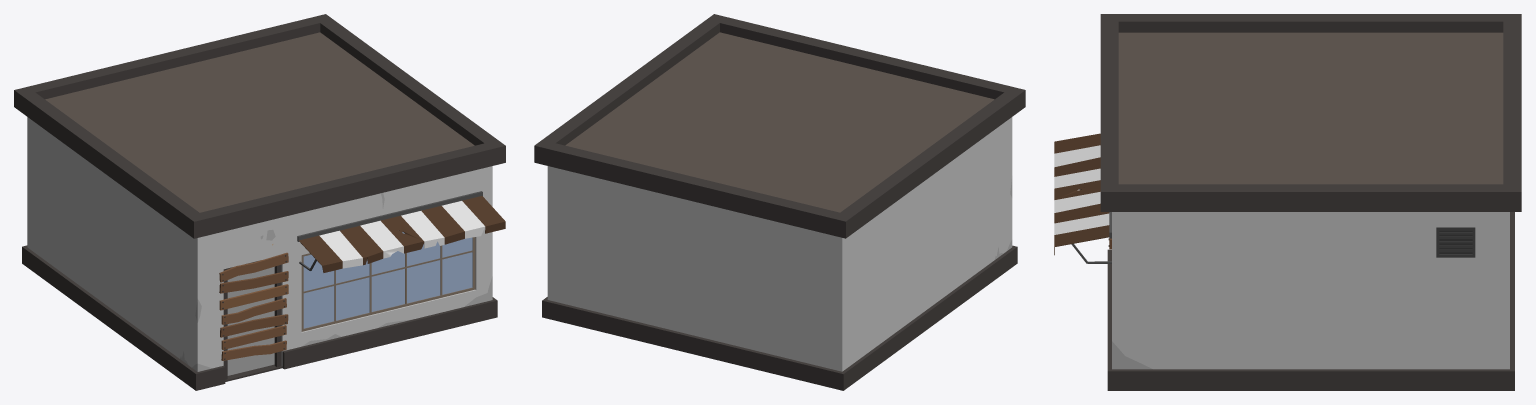
Rendered from House_06.glb.
The picture shows the model from 3 angles, left to right: view 1: azimuth 30°, elevation 25°; view 2: azimuth 150°, elevation 25°; view 3: azimuth 270°, elevation 25°; orthographic projection. The views are drawn at different scales.
Parts seen in each view (by area): view 1: House_06; view 2: House_06; view 3: House_06.
Boxes of the visible parts, x1,y1,x2,y2 form: House_06: [14, 14, 505, 390]; House_06: [534, 14, 1025, 390]; House_06: [1054, 14, 1521, 390].
Size of the model in its own units: 6.34 by 3.36 by 7.04.
2 materials, 2 textured.
